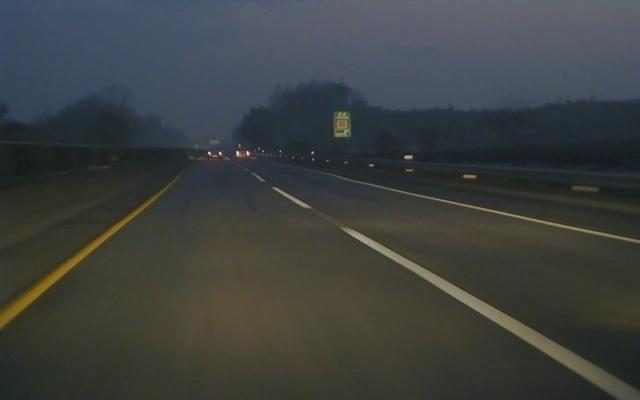lane: (260, 178, 637, 398), (1, 175, 179, 329), (325, 174, 640, 245)
